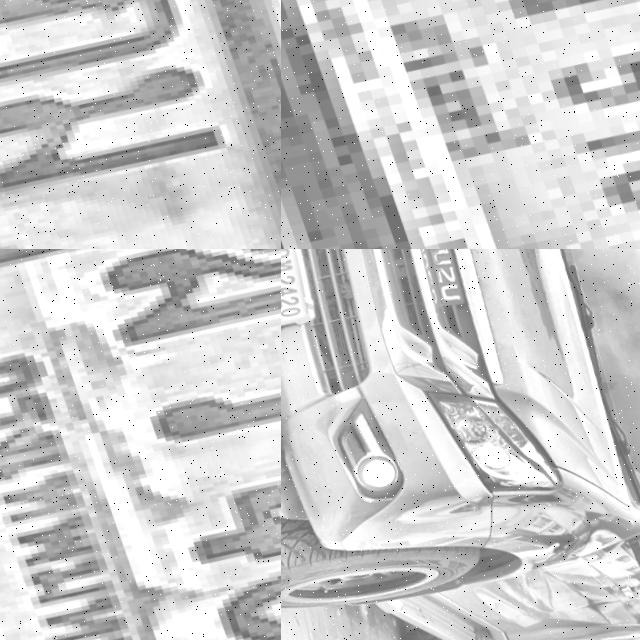license-plate: (0, 249, 281, 640), (281, 0, 640, 249), (0, 0, 281, 249), (281, 249, 325, 336)
